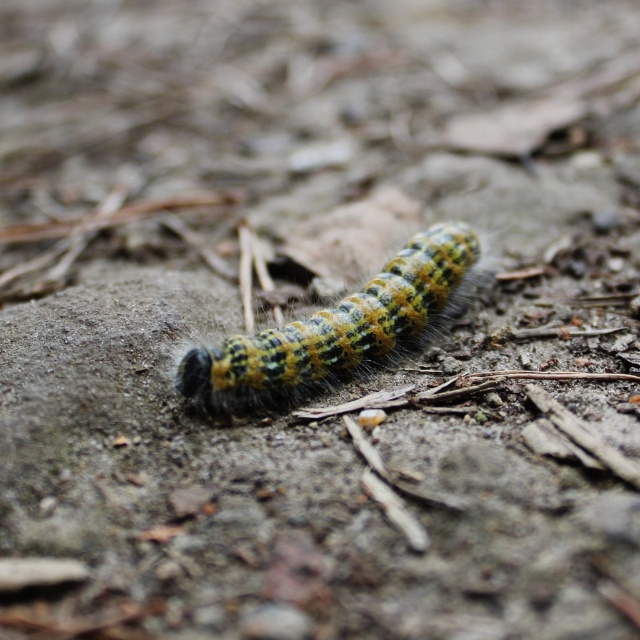Caterpillar: (168, 218, 514, 413)
